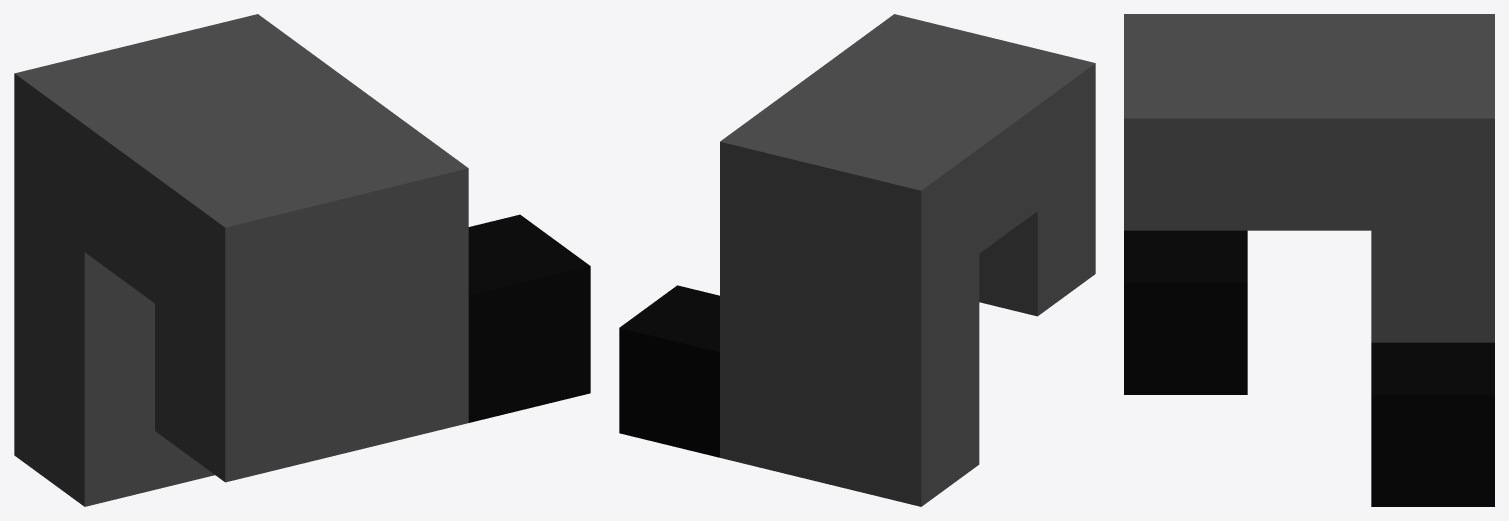
File: player_feet_s-08.obj
The picture shows the model from 3 angles, left to right: view 1: azimuth 30°, elevation 25°; view 2: azimuth 150°, elevation 25°; view 3: azimuth 270°, elevation 25°; orthographic projection. The views are drawn at different scales.
Size of the model in its own units: 3 by 3 by 3.
